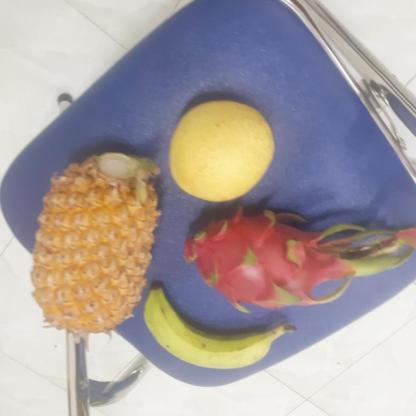banana: (139, 286, 281, 370)
pear: (163, 99, 276, 200)
pineapple: (27, 149, 161, 333)
pitaya: (172, 203, 346, 311)
